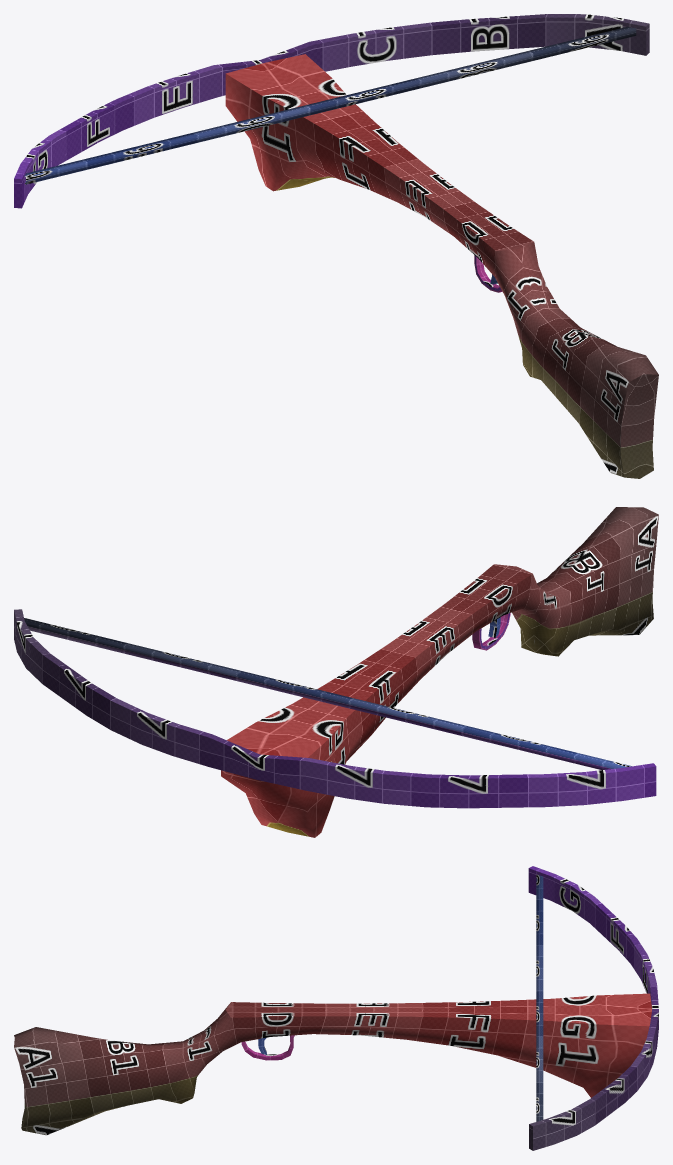
The model's file is Crossbow.glb.
3 views of the same model, one above another, from view 1: azimuth 30°, elevation 25°; view 2: azimuth 150°, elevation 25°; view 3: azimuth 270°, elevation 25° (orthographic). The views are drawn at different scales.
Visible parts, largest first — view 1: crossbow; view 2: crossbow; view 3: crossbow.
Part boxes in pixels (x1=…): crossbow: x1=14, y1=14, x2=658, y2=478; crossbow: x1=14, y1=507, x2=658, y2=837; crossbow: x1=14, y1=866, x2=658, y2=1150.
Bounding box in the file's own units: 0.91 × 0.2187 × 0.9525.
1 material, 1 textured.
